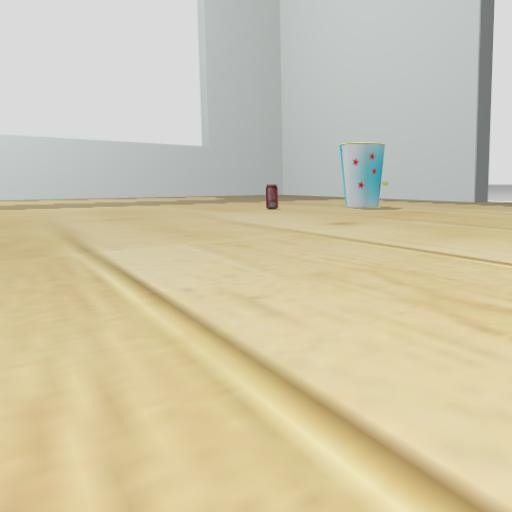COCA: (252, 171, 294, 227)
Trash: (330, 126, 396, 221)
